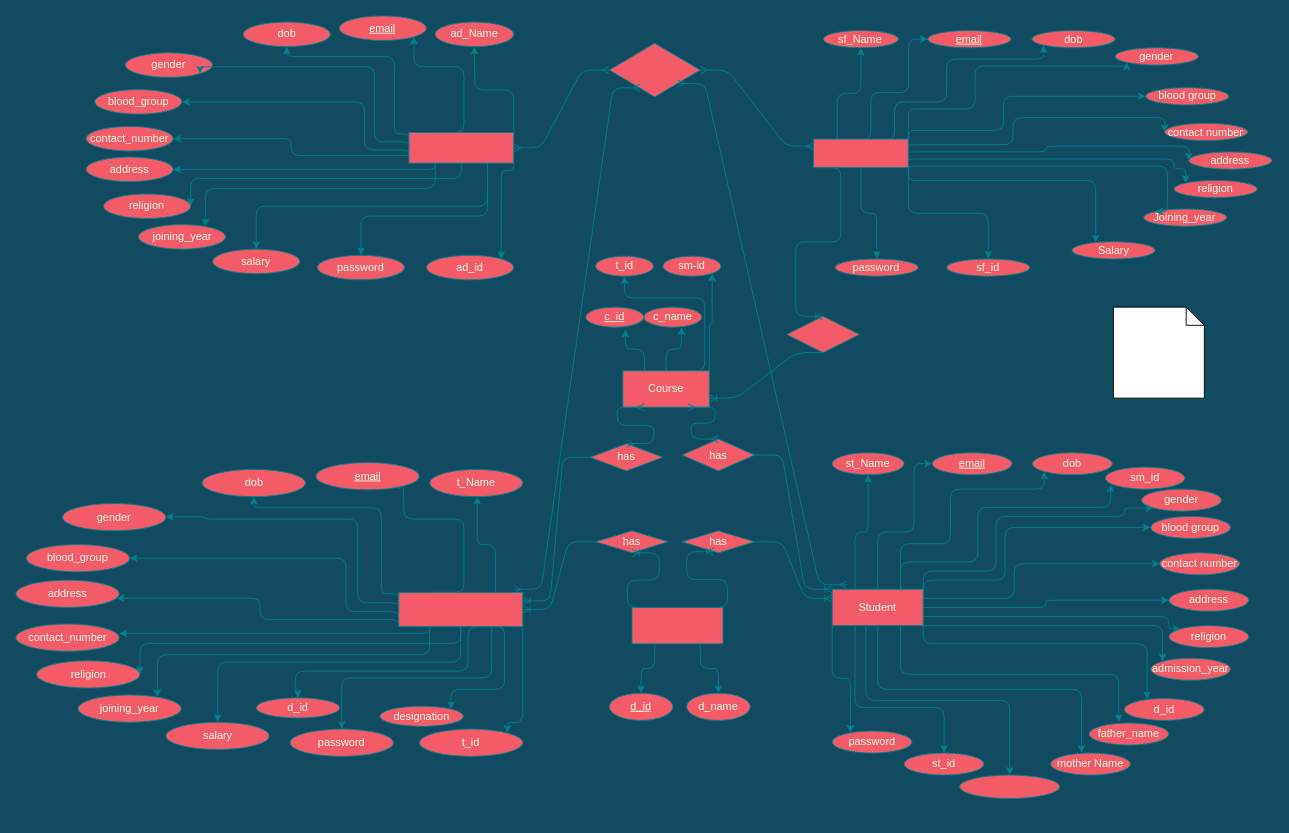
This 1289x833 diagram has some shape labels left out. Each missing label, with the centre of its shape:
Admin: pixel 461 147
Department: pixel 677 625
guardian_contact: pixel 1009 786
NOTE admin= ad Stuff=sf Teacher=t student=st Course=c Semester=sm: pixel 1158 352
Sets_Up: pixel 822 334
Stuff: pixel 860 153
Teacher: pixel 460 609
view and edit: pixel 654 69
